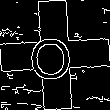O_N: (32, 28, 78, 82)
